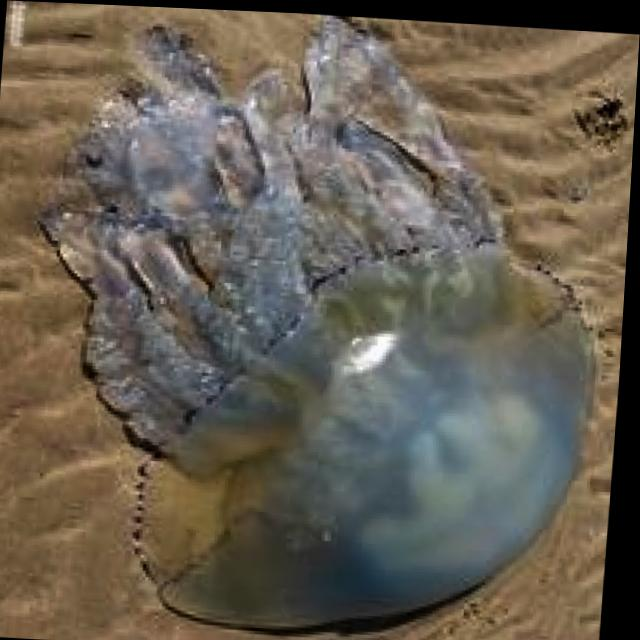Jellyfish: (12, 1, 623, 640)
